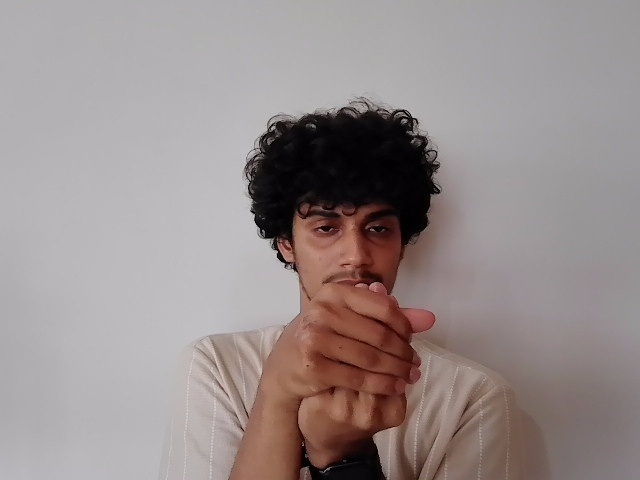with: (264, 278, 442, 440)
